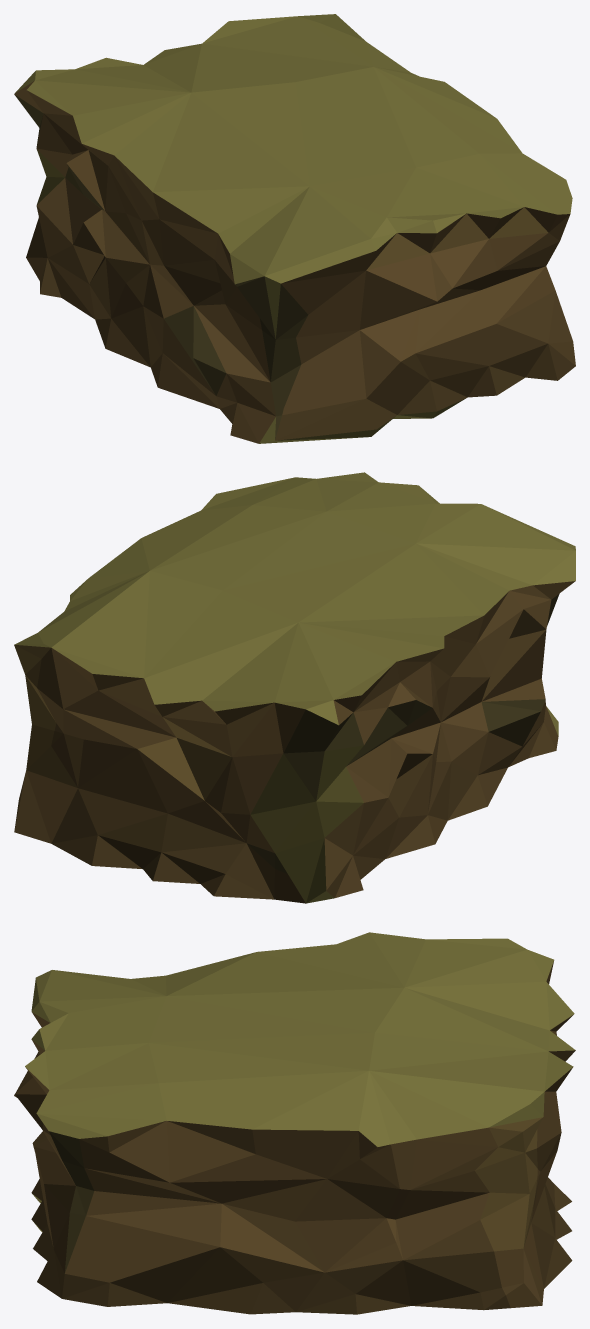
Rendered from EA_M_HayBale_Square_Green_01b.fbx.
3 renders of one model, top to bottom at view 1: azimuth 30°, elevation 25°; view 2: azimuth 150°, elevation 25°; view 3: azimuth 270°, elevation 25°, orthographic.
Visible parts, largest first — view 1: EA_M_HayBale_Square_Green_01b_LOD0; view 2: EA_M_HayBale_Square_Green_01b_LOD0; view 3: EA_M_HayBale_Square_Green_01b_LOD0.
Boxes of the visible parts, <box> form: EA_M_HayBale_Square_Green_01b_LOD0: <box>14,14,575,443</box>; EA_M_HayBale_Square_Green_01b_LOD0: <box>14,472,575,903</box>; EA_M_HayBale_Square_Green_01b_LOD0: <box>14,932,575,1314</box>.
Size of what is drawn, in the model's own units: 1.39 by 0.8093 by 1.82.
